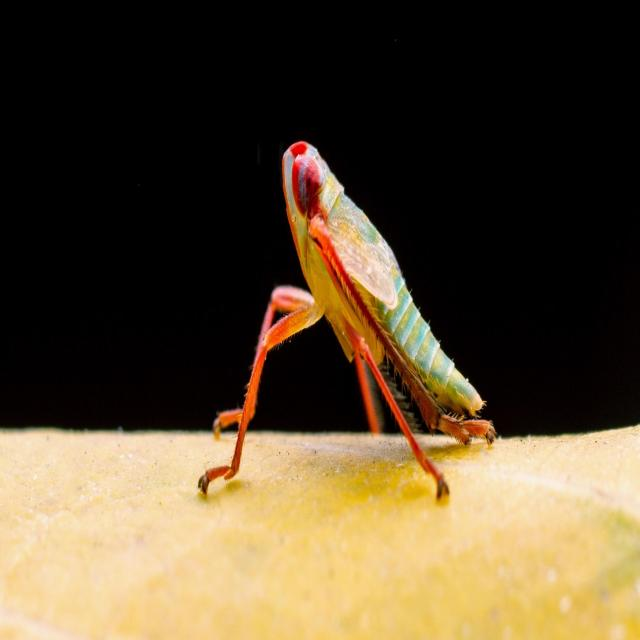Yechan: (226, 125, 504, 473)
